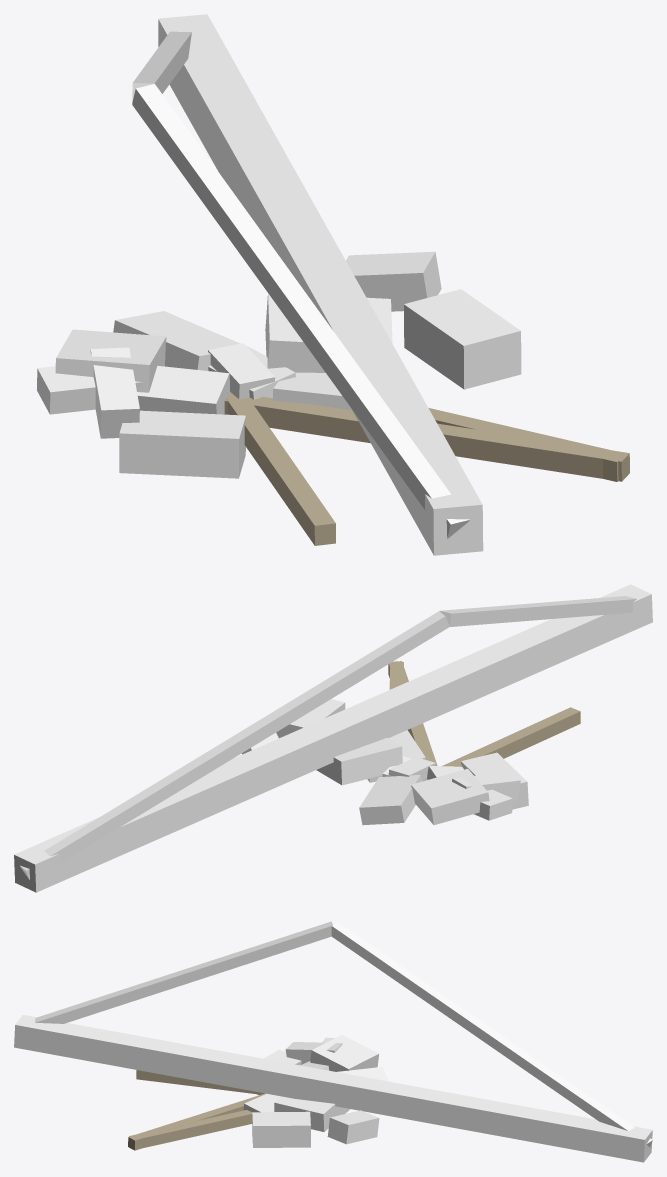
File: AE_C01_CollapsePile.fbx
3 renders of one model, top to bottom at view 1: azimuth 30°, elevation 25°; view 2: azimuth 150°, elevation 25°; view 3: azimuth 270°, elevation 25°, orthographic. The views are drawn at different scales.
Visible parts, largest first — view 1: AE_C01_CollapsePile_LOD0; view 2: AE_C01_CollapsePile_LOD0; view 3: AE_C01_CollapsePile_LOD0.
Boxes of the visible parts, <box> form: AE_C01_CollapsePile_LOD0: <box>37,14,629,555</box>; AE_C01_CollapsePile_LOD0: <box>14,584,652,892</box>; AE_C01_CollapsePile_LOD0: <box>14,921,652,1162</box>.
Size of what is drawn, in the model's own units: 175 by 116 by 406.
